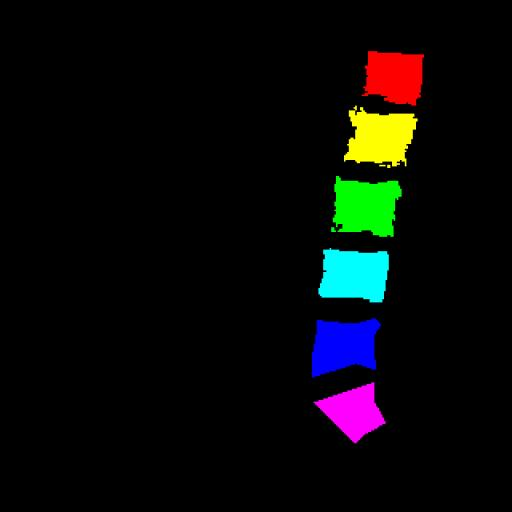L1: (363, 51, 424, 106)
L2: (344, 106, 417, 166)
L3: (331, 176, 402, 236)
L4: (316, 250, 389, 301)
L5: (312, 319, 380, 380)
S1: (314, 382, 385, 442)
